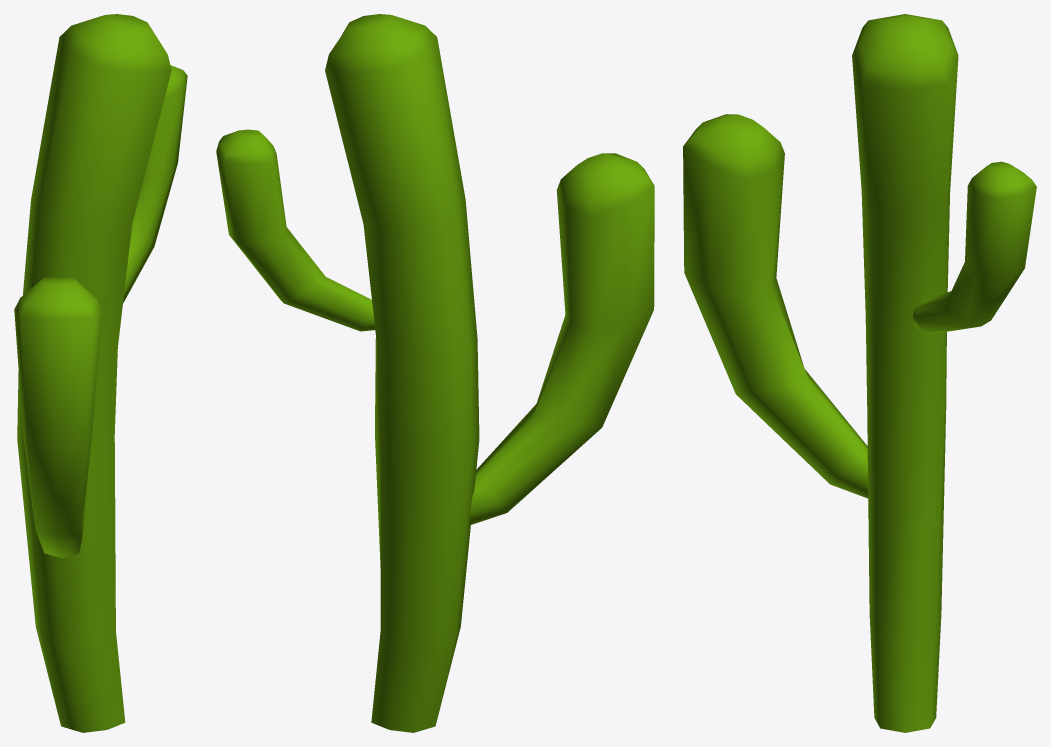
Rendered from Cactus_38_A.fbx.
The picture shows the model from 3 angles, left to right: view 1: azimuth 30°, elevation 25°; view 2: azimuth 150°, elevation 25°; view 3: azimuth 270°, elevation 25°; orthographic projection. The views are drawn at different scales.
Parts seen in each view (by area): view 1: Cactus_38_A; view 2: Cactus_38_A; view 3: Cactus_38_A.
Boxes of the visible parts, x1,y1,x2,y2 form: Cactus_38_A: (14, 14, 187, 732); Cactus_38_A: (216, 14, 654, 732); Cactus_38_A: (683, 14, 1036, 732).
Bounding box in the file's own units: 98.2 × 216 × 97.68.
